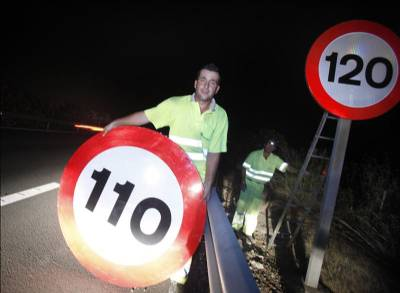Speed_limit_120km: (303, 17, 400, 121)
